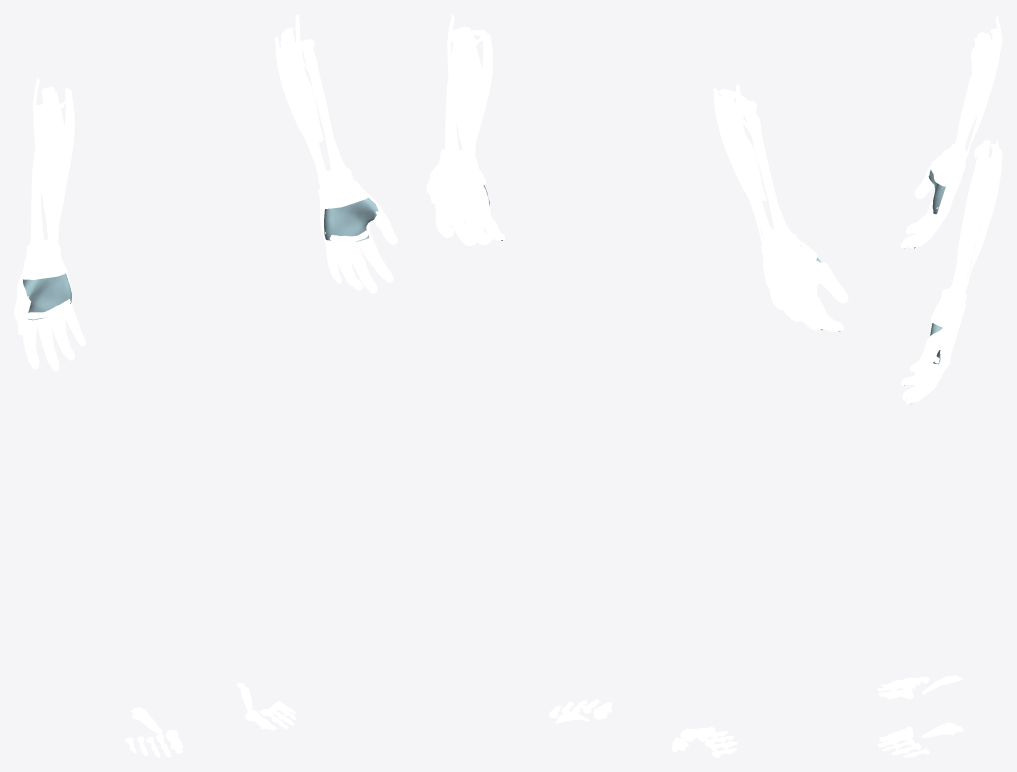
File: zanatomy_full_carpal.glb
3 renders of one model, left to right at view 1: azimuth 30°, elevation 25°; view 2: azimuth 150°, elevation 25°; view 3: azimuth 270°, elevation 25°, orthographic. The views are drawn at different scales.
Parts seen in each view (by area): view 1: Palmar surfaces of digits of hand.l, Palmar surfaces of digits of hand.r, Radius.r, Palmar aponeurosis.l, Radius.l, Palmar aponeurosis.r, Humeral head of flexor carpi ulnaris.r, Humeral head of flexor carpi ulnaris.l, Ulnar head of flexor carpi ulnaris.ol, Anterior region of wrist.l, Anterior region of wrist.r, Ulnar head of flexor carpi ulnaris.or (+2 smaller); view 2: Dorsum of hand.r, Dorsum of hand.l, Radius.r, Dorsal surfaces of digits of hand.r, Ulnar head of flexor carpi ulnaris.l, Dorsal surfaces of digits of hand.l, Ulna.r, Humeral head of extensor carpi ulnaris.l, Radius.l, Humeral head of extensor carpi ulnaris.r, Humeral head of flexor carpi ulnaris.l, Ulna.l (+1 smaller); view 3: Humeral head of flexor carpi ulnaris.r, Radius.l, Dorsal surfaces of digits of hand.l, Palmar surfaces of digits of hand.r, Humeral head of flexor carpi ulnaris.l, Humeral head of extensor carpi ulnaris.l, Ulna.l, Palmar surfaces of digits of hand.l, Dorsum of hand.l, Ulnar head of flexor carpi ulnaris.r, Humeral head of extensor carpi ulnaris.r, Anterior region of wrist.r (+10 smaller).
Boxes of the visible parts, x1=… form: Palmar surfaces of digits of hand.l: x1=325, y1=209, x2=396, y2=292; Palmar surfaces of digits of hand.r: x1=22, y1=295, x2=85, y2=370; Radius.r: x1=29, y1=104, x2=48, y2=249; Palmar aponeurosis.l: x1=324, y1=198, x2=378, y2=241; Radius.l: x1=300, y1=39, x2=348, y2=180; Palmar aponeurosis.r: x1=24, y1=273, x2=71, y2=320; Humeral head of flexor carpi ulnaris.r: x1=55, y1=88, x2=74, y2=247; Humeral head of flexor carpi ulnaris.l: x1=274, y1=36, x2=326, y2=182; Ulnar head of flexor carpi ulnaris.ol: x1=292, y1=55, x2=323, y2=142; Anterior region of wrist.l: x1=321, y1=181, x2=369, y2=208; Anterior region of wrist.r: x1=22, y1=256, x2=67, y2=279; Ulnar head of flexor carpi ulnaris.or: x1=43, y1=113, x2=56, y2=208; Dorsum of hand.r: x1=763, y1=259, x2=829, y2=306; Dorsum of hand.l: x1=430, y1=171, x2=490, y2=222; Radius.r: x1=740, y1=101, x2=794, y2=242; Dorsal surfaces of digits of hand.r: x1=769, y1=267, x2=848, y2=331; Ulnar head of flexor carpi ulnaris.l: x1=462, y1=35, x2=482, y2=154; Dorsal surfaces of digits of hand.l: x1=426, y1=178, x2=505, y2=245; Ulna.r: x1=719, y1=90, x2=774, y2=240; Humeral head of extensor carpi ulnaris.l: x1=447, y1=14, x2=467, y2=166; Radius.l: x1=442, y1=29, x2=460, y2=165; Humeral head of extensor carpi ulnaris.r: x1=736, y1=84, x2=762, y2=238; Humeral head of flexor carpi ulnaris.l: x1=473, y1=32, x2=492, y2=164; Ulna.l: x1=456, y1=27, x2=476, y2=167; Humeral head of flexor carpi ulnaris.r: x1=949, y1=39, x2=990, y2=162; Radius.l: x1=949, y1=160, x2=990, y2=298; Dorsal surfaces of digits of hand.l: x1=901, y1=339, x2=948, y2=404; Palmar surfaces of digits of hand.r: x1=901, y1=169, x2=936, y2=247; Humeral head of flexor carpi ulnaris.l: x1=947, y1=140, x2=990, y2=294; Humeral head of extensor carpi ulnaris.l: x1=965, y1=139, x2=1001, y2=290; Ulna.l: x1=951, y1=144, x2=1002, y2=290; Palmar surfaces of digits of hand.l: x1=901, y1=339, x2=938, y2=403; Dorsum of hand.l: x1=928, y1=322, x2=960, y2=364; Ulnar head of flexor carpi ulnaris.r: x1=955, y1=38, x2=997, y2=155; Humeral head of extensor carpi ulnaris.r: x1=963, y1=14, x2=1001, y2=160; Anterior region of wrist.r: x1=930, y1=154, x2=952, y2=186.
Bounding box in the file's own units: 0.68 × 1.12 × 0.1977.
